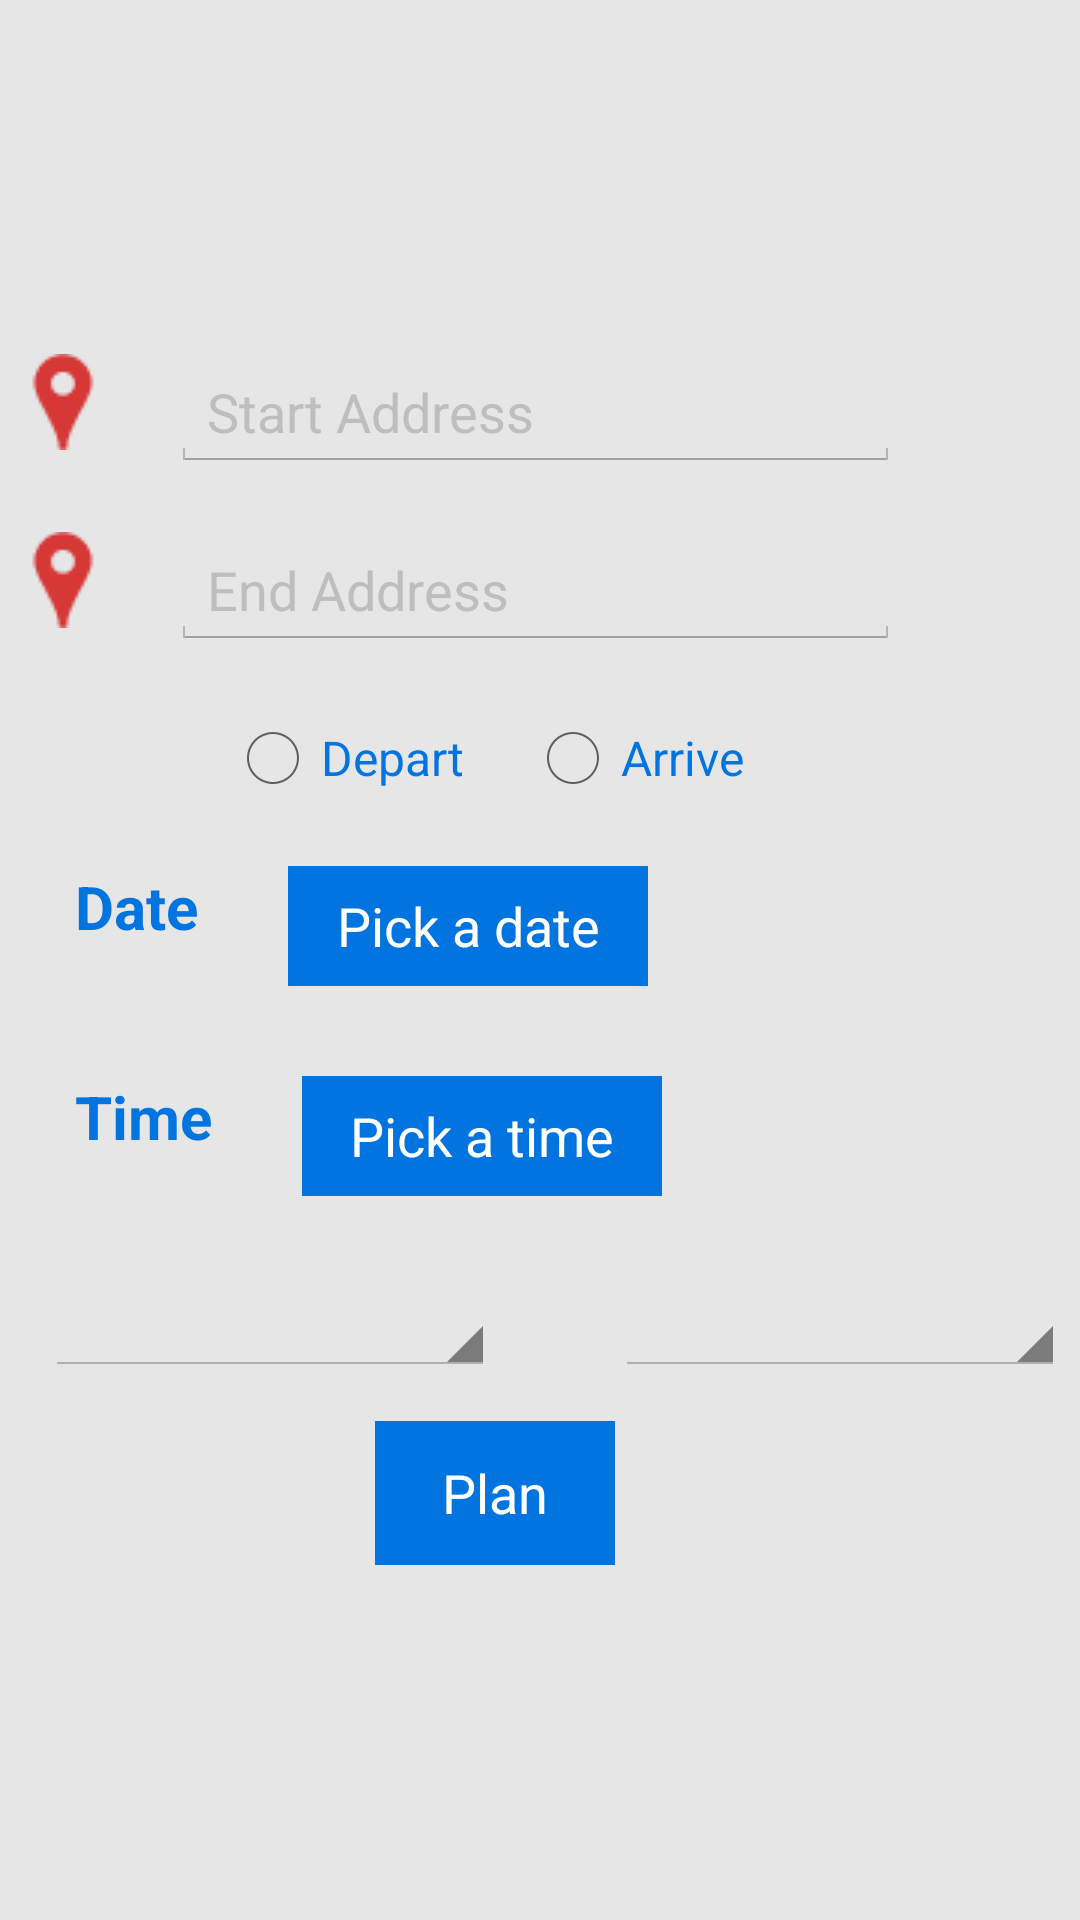

Icon click points for this 1080*1920 phone screenshot, format [x,y]:
marker: [63,402], [63,580]
